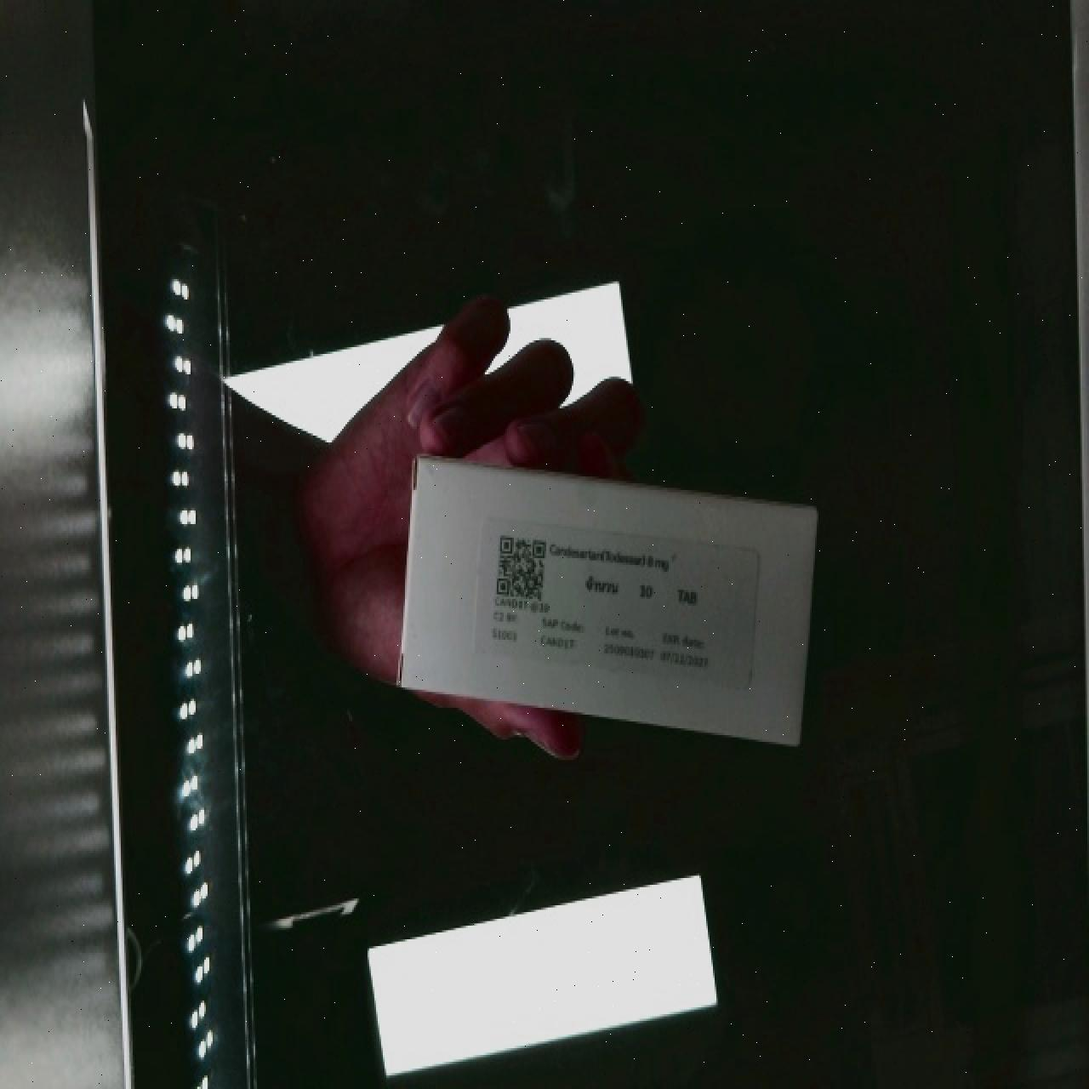qr_code: (479, 516, 565, 625)
